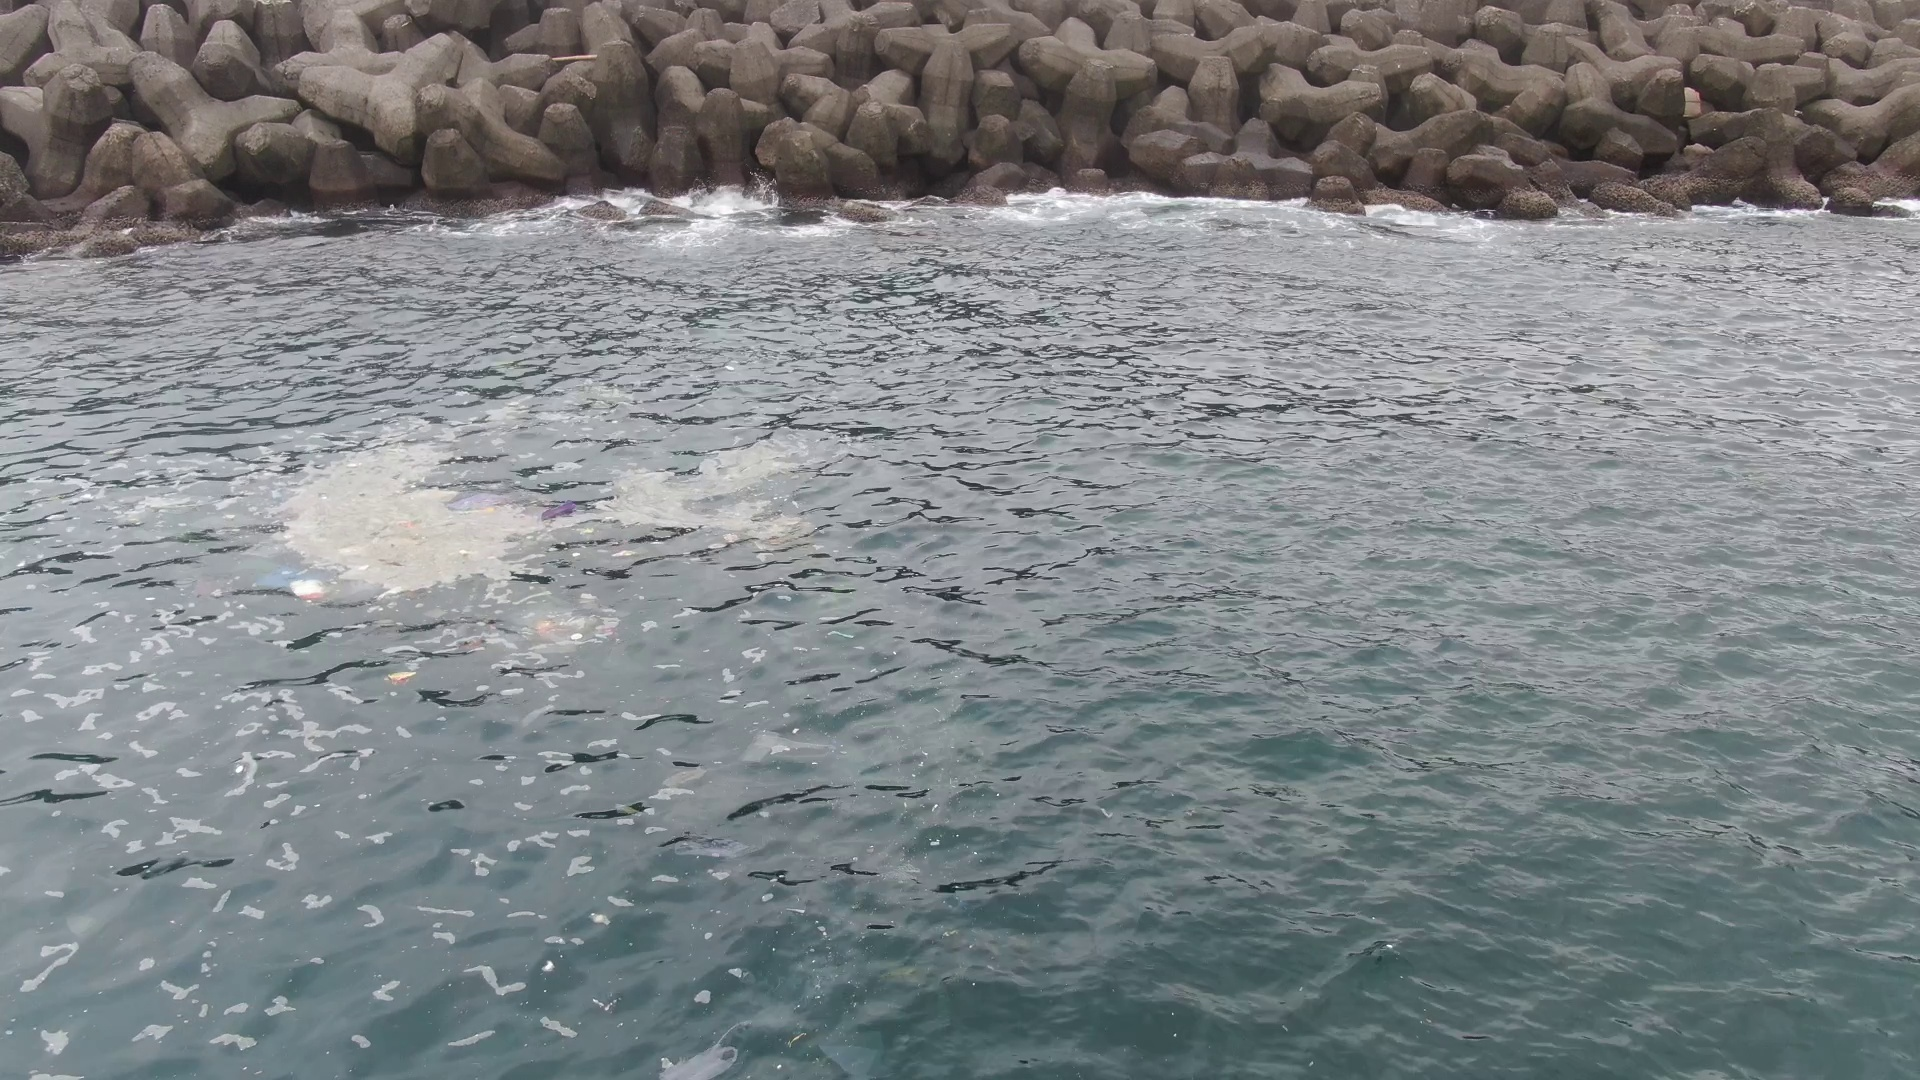garbage: (218, 456, 620, 607), (452, 603, 625, 661), (651, 1044, 741, 1073), (386, 663, 419, 688)
